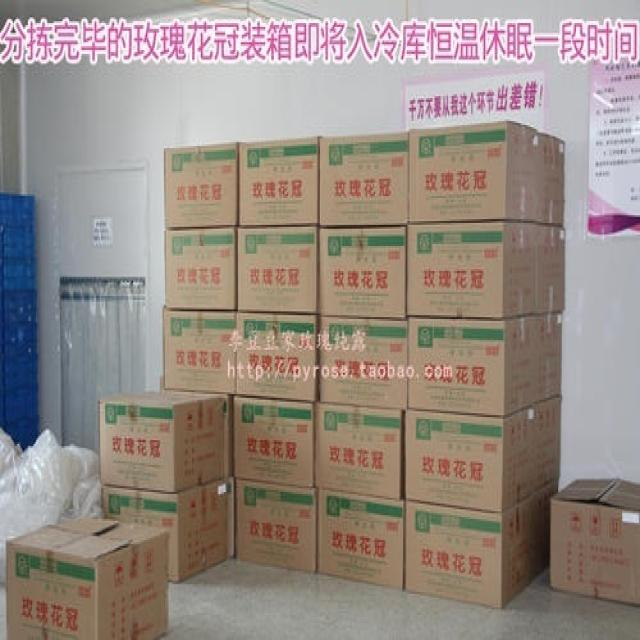box: (5, 515, 169, 638), (404, 493, 539, 611), (405, 405, 539, 511), (407, 315, 538, 416), (408, 122, 539, 221), (100, 479, 225, 582), (98, 391, 225, 492), (407, 224, 538, 319), (548, 478, 639, 605), (316, 490, 405, 589), (315, 403, 404, 501), (320, 133, 409, 225), (319, 317, 408, 409), (319, 228, 407, 320), (237, 312, 320, 401), (235, 481, 315, 573), (237, 226, 320, 313), (235, 397, 314, 488), (240, 136, 320, 225), (164, 141, 240, 229), (163, 307, 237, 393), (165, 225, 238, 310), (538, 225, 565, 313), (539, 134, 565, 225), (537, 398, 562, 490), (539, 314, 562, 402)
